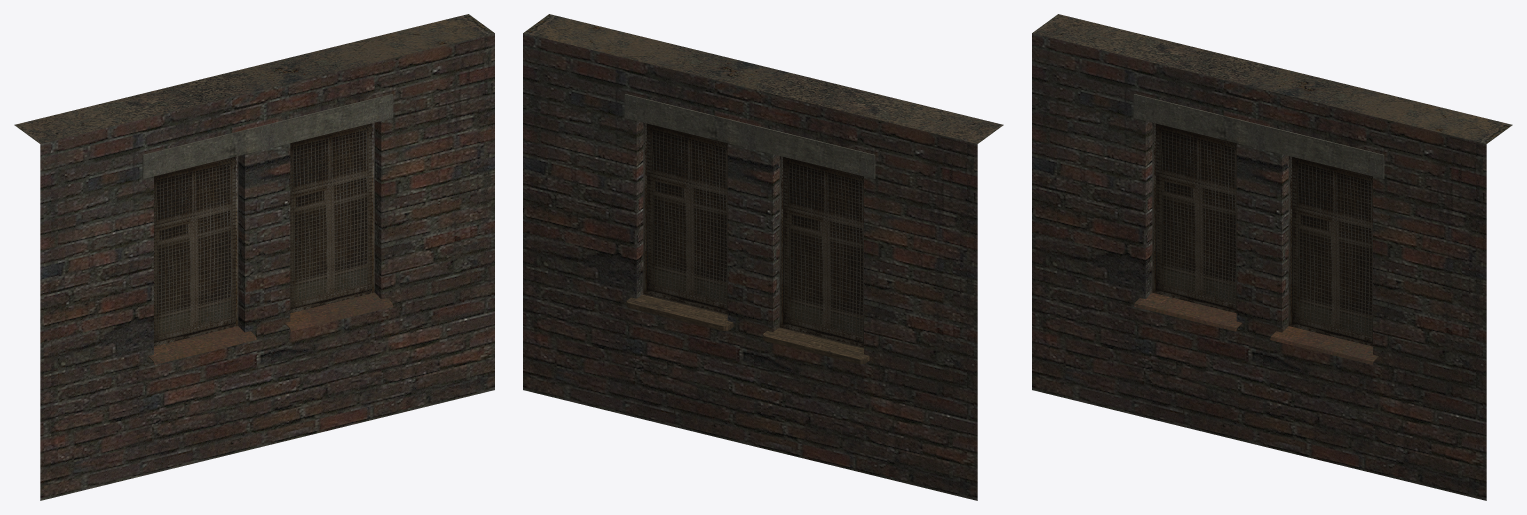
The model's file is windows_hs_1.dae.
The picture shows the model from 3 angles, left to right: view 1: azimuth 30°, elevation 25°; view 2: azimuth 150°, elevation 25°; view 3: azimuth 330°, elevation 25°; orthographic projection.
Parts seen in each view (by area): view 1: windows_hs_1; view 2: windows_hs_1; view 3: windows_hs_1.
Boxes of the visible parts, x1,y1,x2,y2 form: windows_hs_1: (14,14,494,500); windows_hs_1: (523,14,1003,500); windows_hs_1: (1032,14,1512,500).
Size of the model in its own units: 4 by 0.595 by 3.
Materials: 6 (6 with a texture image).
